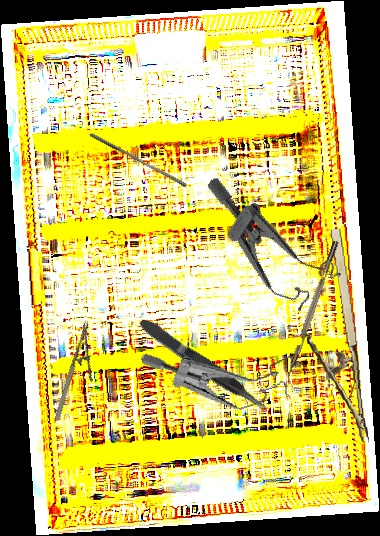Chopper: (281, 240, 346, 389)
Needle Holder: (295, 227, 370, 449), (51, 319, 109, 426)
Pusher: (86, 132, 190, 188)
Speculum: (176, 175, 350, 321), (139, 306, 310, 438)
Tissue Forceps: (136, 312, 272, 419)
